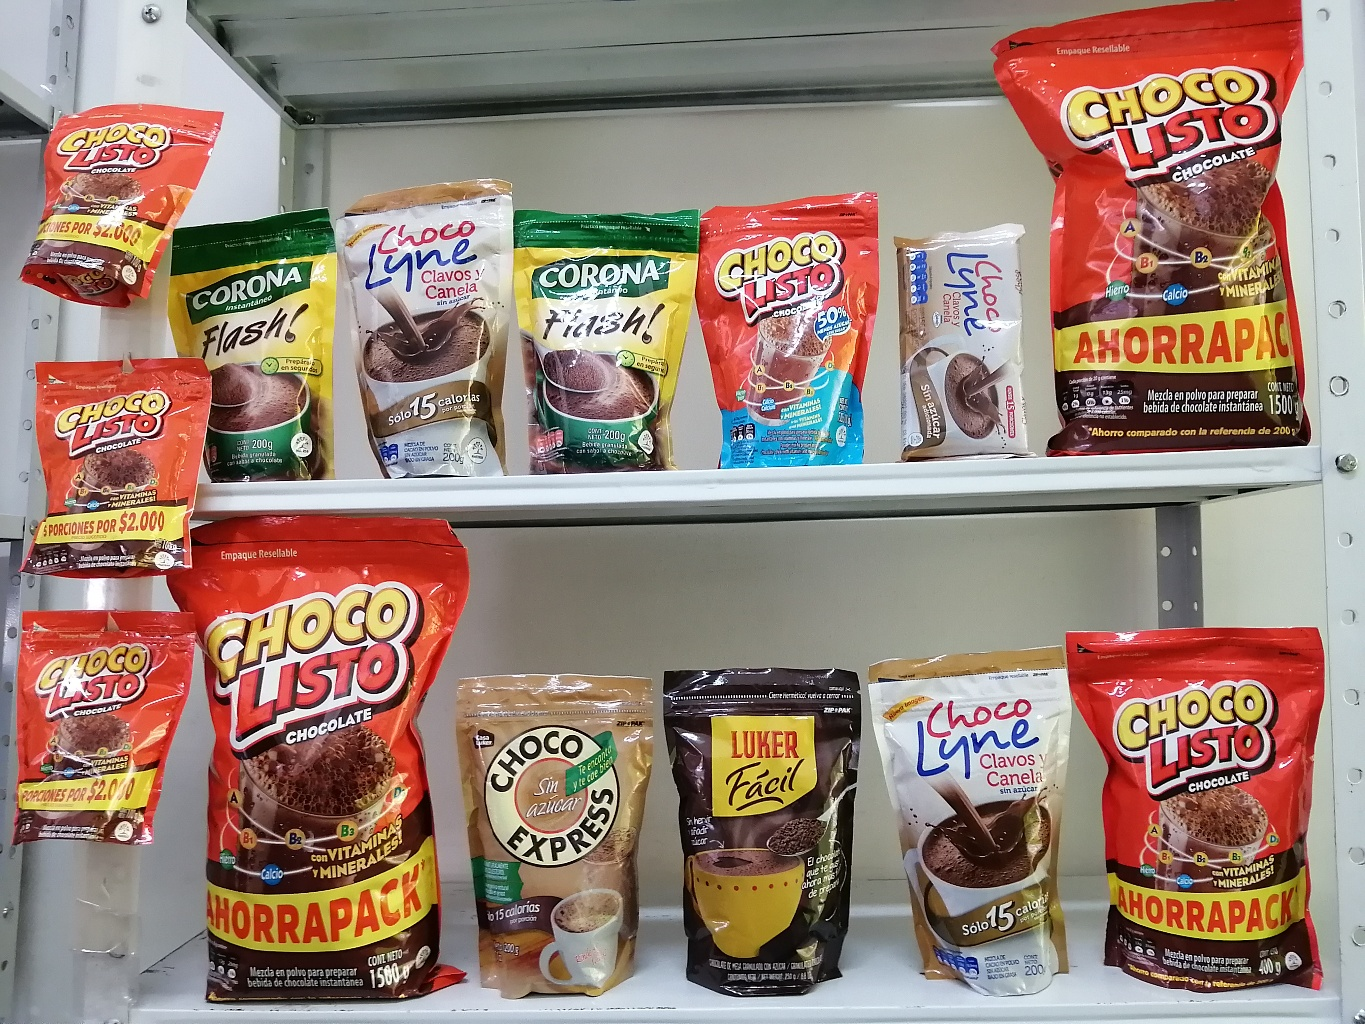COL0170102DYP10000: (353, 257, 521, 470)
COL0170103DYP1,500: (989, 5, 1330, 459)
COL0170103DYP10000: (1, 673, 181, 927)
COL0170305DYP20000: (646, 649, 875, 1000)
COL0170306DYP20000: (881, 664, 1111, 1004)
